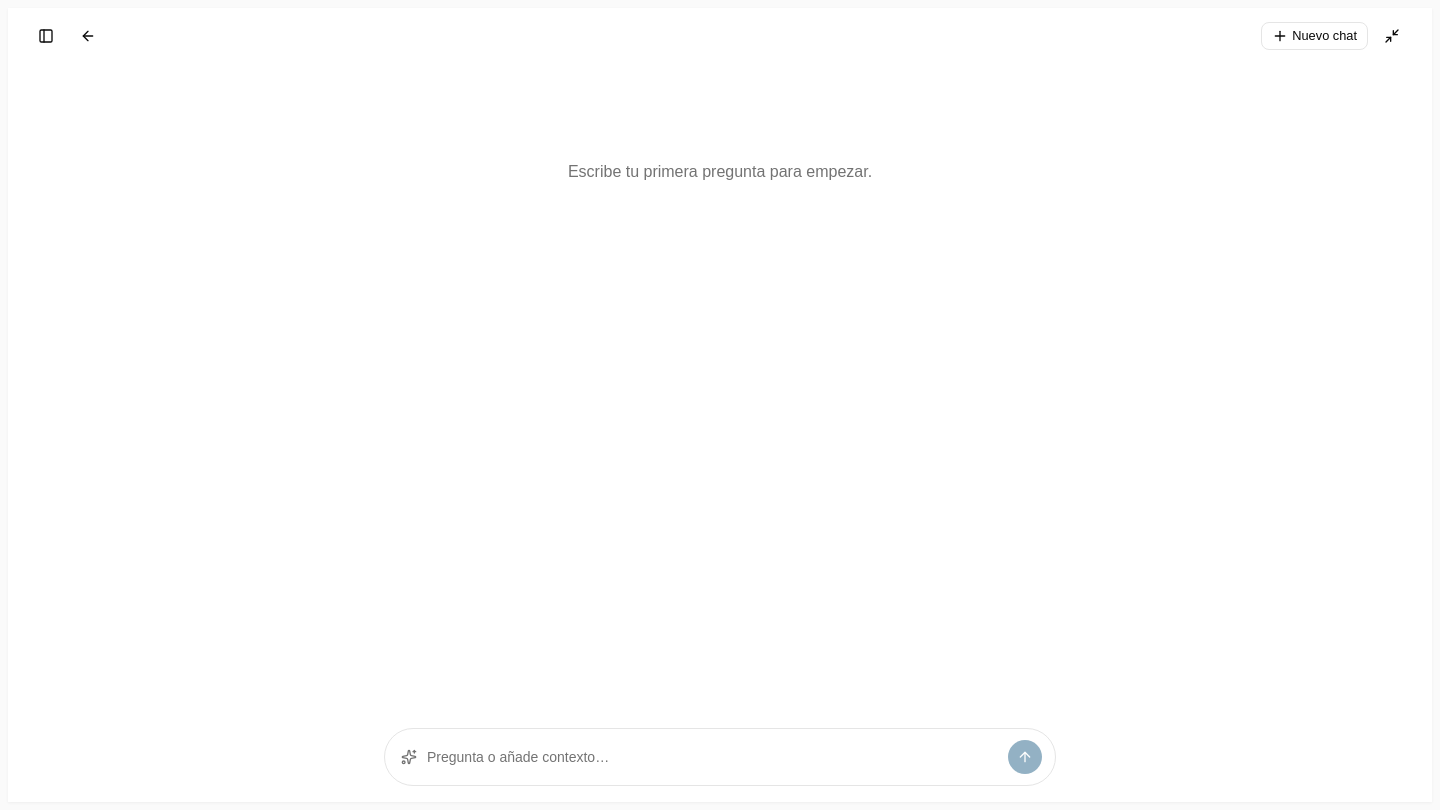
Test: opens a chat without a title header and returns to the conversation list with the arrow
Expected: the text "Escribe tu primera pregunta para empezar." is shown, [568,163,872,180]
Expected: the heading "Chat de prueba" is not shown
Click the link named "Volver a chats".
click(88, 36)  # box [80,28,96,44]
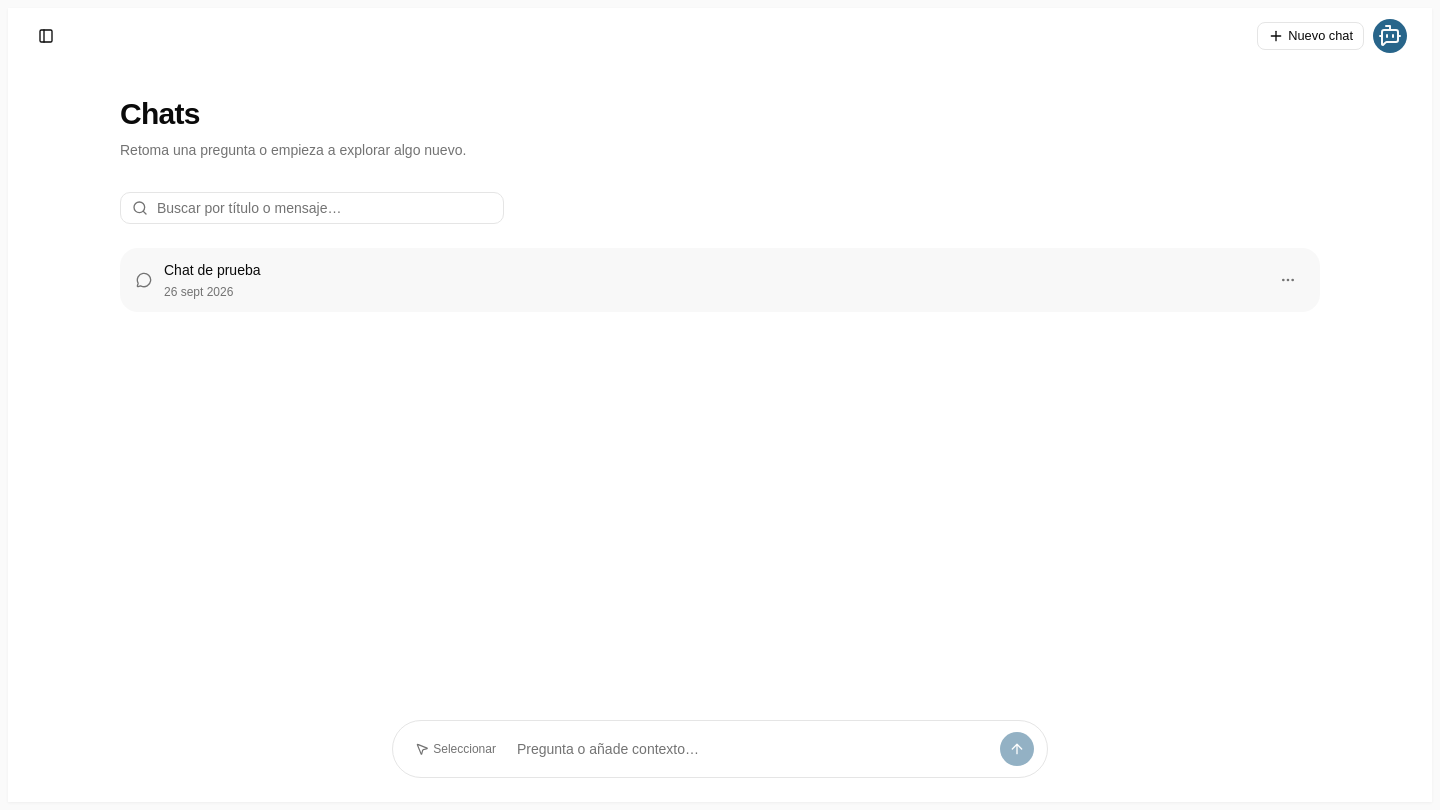
Expected: the heading "Chats" is shown, [120,97,200,130]
